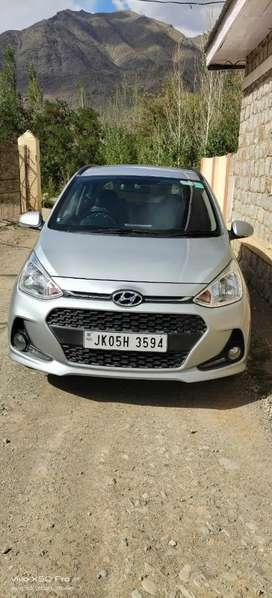JK05H3594: (82, 329, 166, 351)
